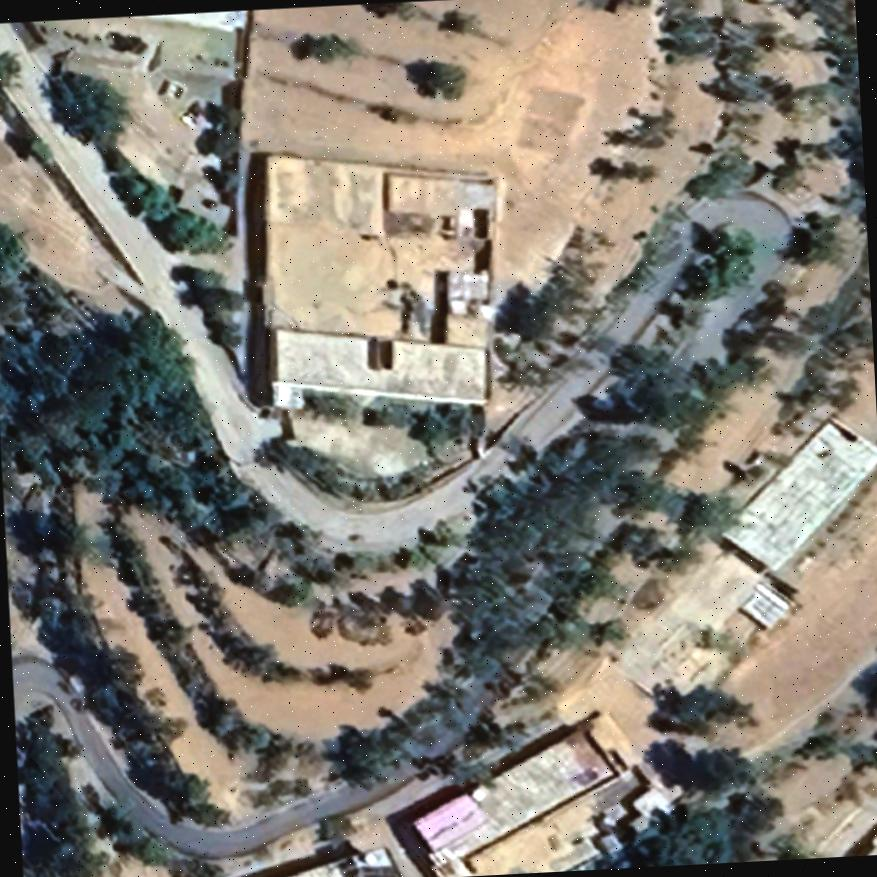Solarpanel: (358, 859, 403, 877)
